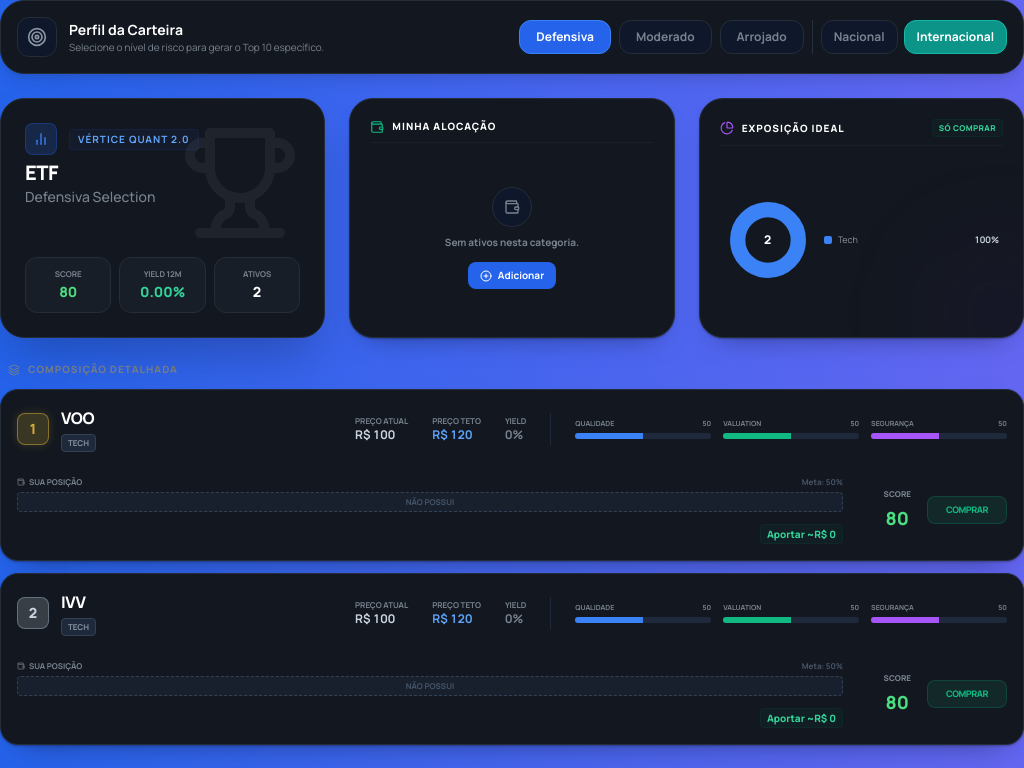
Test case: TopPicksCard — sub-filtro da aba ETFs (Nacional/Internacional) › chip Nacional deixa só os ETFs B3 (type ETF)
Click the button titled "Filtrar ETFs: Nacional" at (859, 37), box [821,20,898,54]
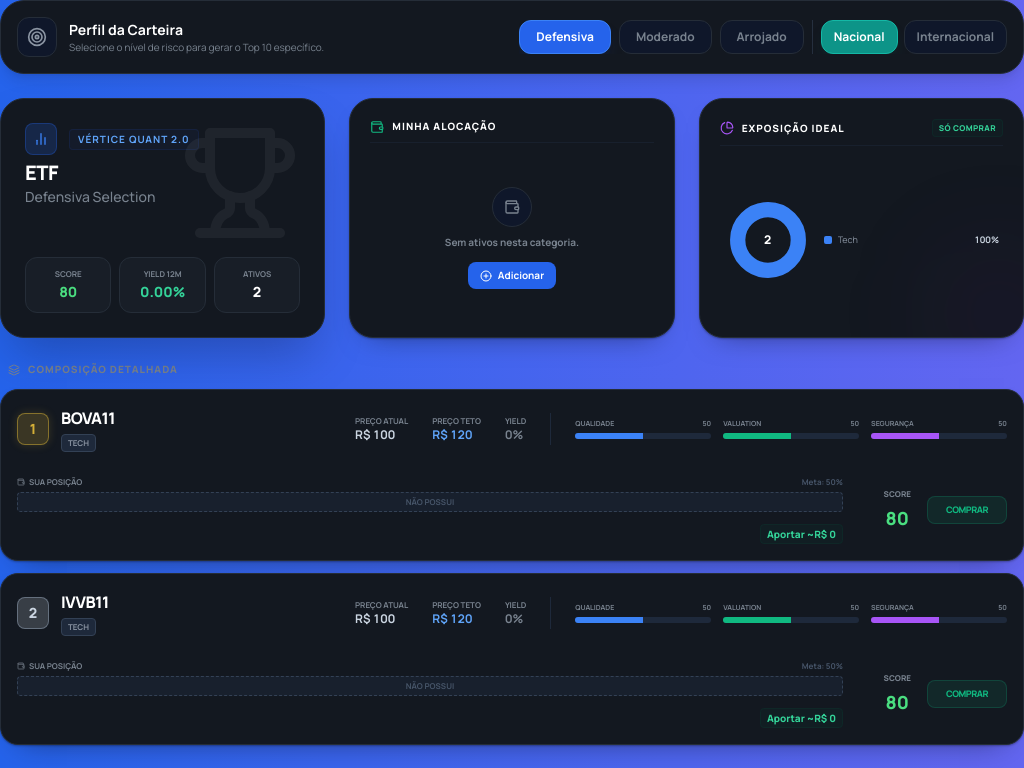
expect the text "IVV" is not shown: met
expect the heading "VOO" no longer shows "VOO": met
